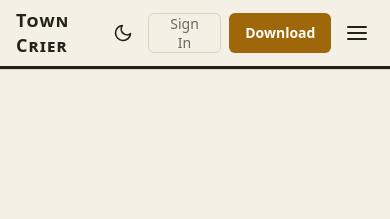
Navbar › hamburger button aria-expanded reflects menu state
The width and height of the screenshot is (390, 219).
Click the button named "menu". click: (357, 33)
box: x1=339 y1=13 x2=374 y2=53
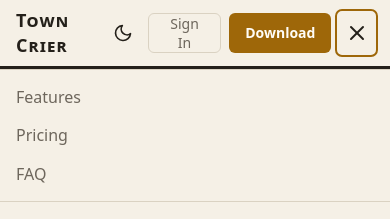
Expected: the button named "menu" is expanded, x1=339 y1=13 x2=374 y2=53
